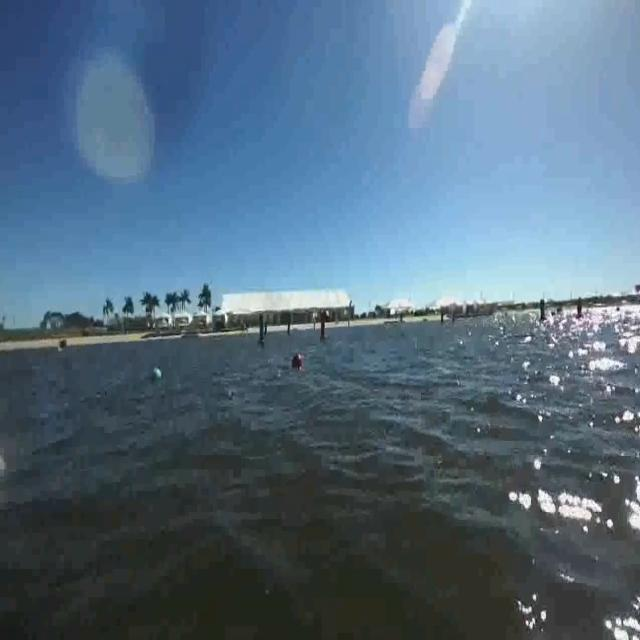green-buoy: (153, 366, 160, 379)
green-column-buoy: (257, 313, 266, 348)
red-buoy: (291, 350, 303, 369)
